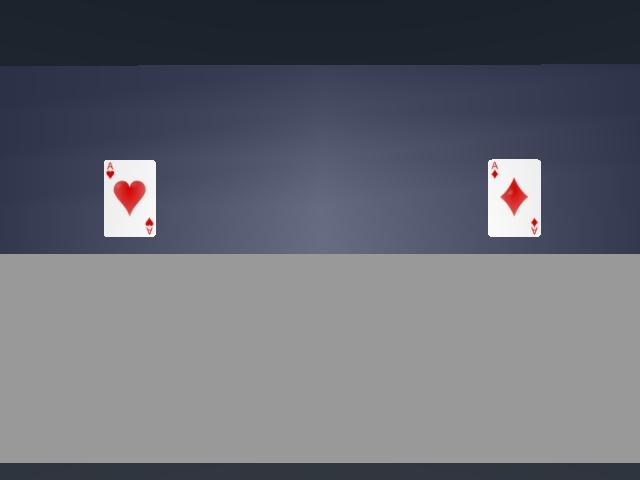diamond: (487, 159, 541, 236)
heart: (104, 160, 155, 236)
